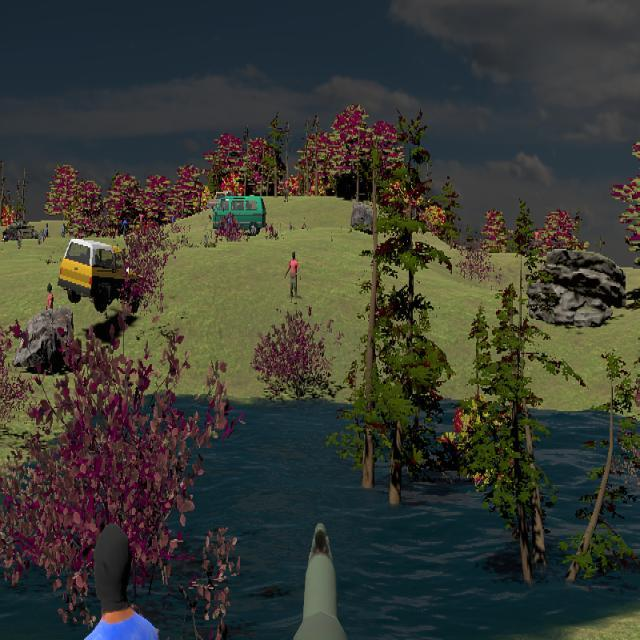Human: (50, 519, 184, 640), (285, 250, 302, 304)
Tank: (2, 219, 39, 243)
car: (58, 238, 144, 312), (212, 195, 266, 236)
